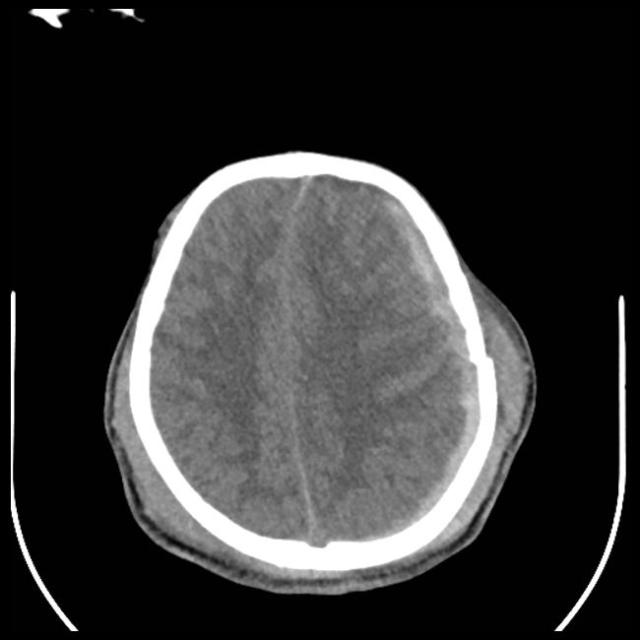lesion: (100, 146, 540, 596)
